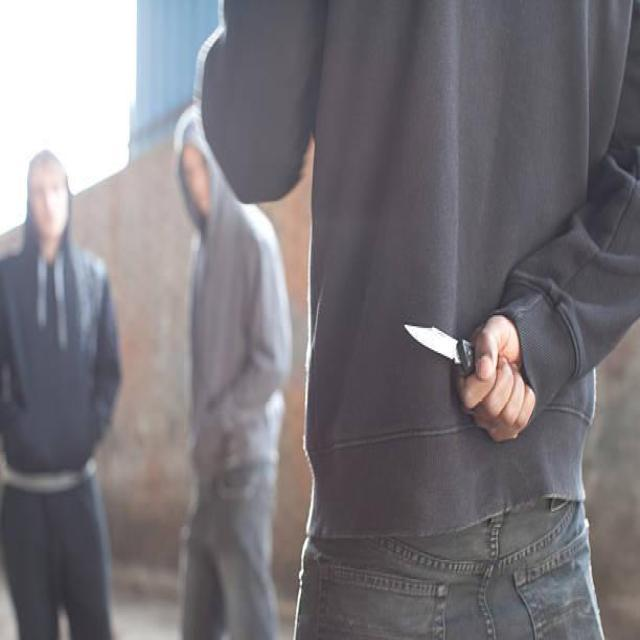faca: (403, 284, 551, 464)
